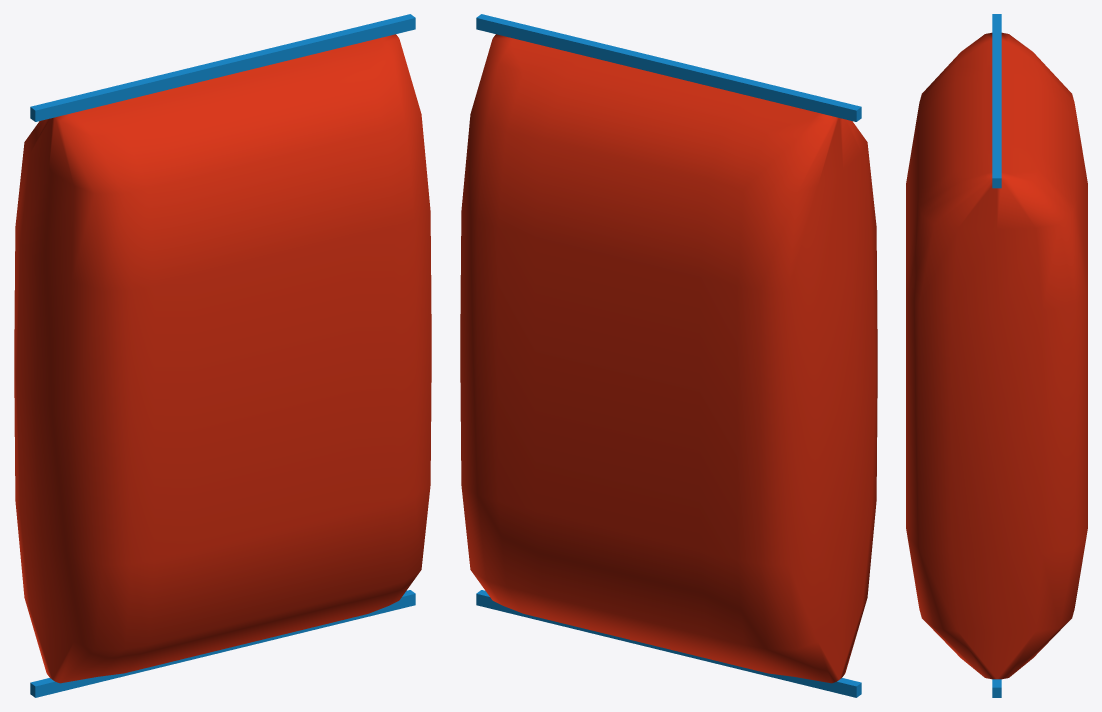
The model's file is Closed_Sack.fbx.
3 renders of one model, left to right at view 1: azimuth 30°, elevation 25°; view 2: azimuth 150°, elevation 25°; view 3: azimuth 270°, elevation 25°, orthographic. The views are drawn at different scales.
Visible parts, largest first — view 1: Sack_closed; view 2: Sack_closed; view 3: Sack_closed.
Part boxes in pixels (bbox=[...]): Sack_closed: bbox=[14, 14, 431, 697]; Sack_closed: bbox=[460, 14, 877, 697]; Sack_closed: bbox=[906, 14, 1087, 697].
Bounding box in the file's own units: 35.77 × 16.74 × 52.79.
